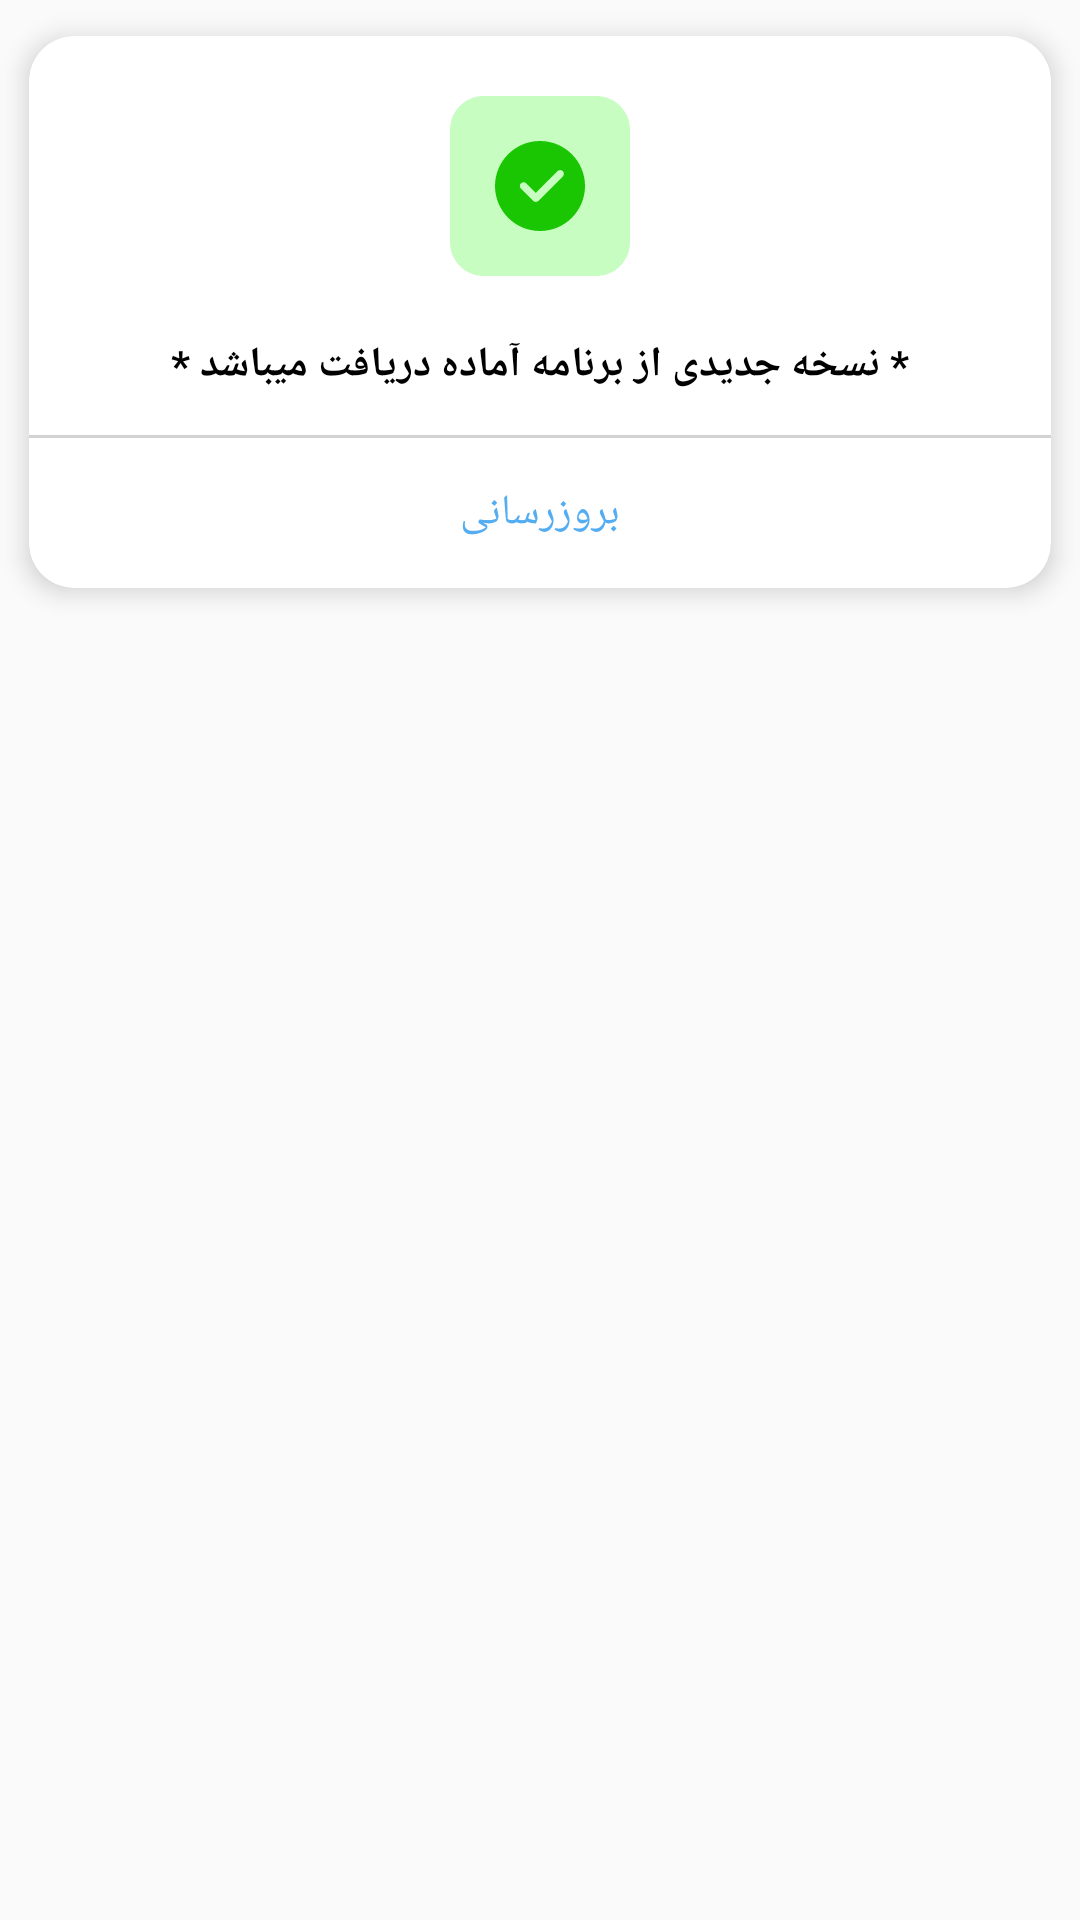

Icon bounding boxes for this 1080×1920 phone screenshot, format (x1, y1, x2, y2):
check update: (450, 96, 630, 276)
